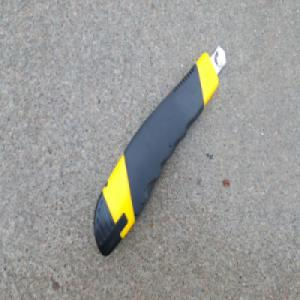Cutter: (92, 44, 227, 258)
